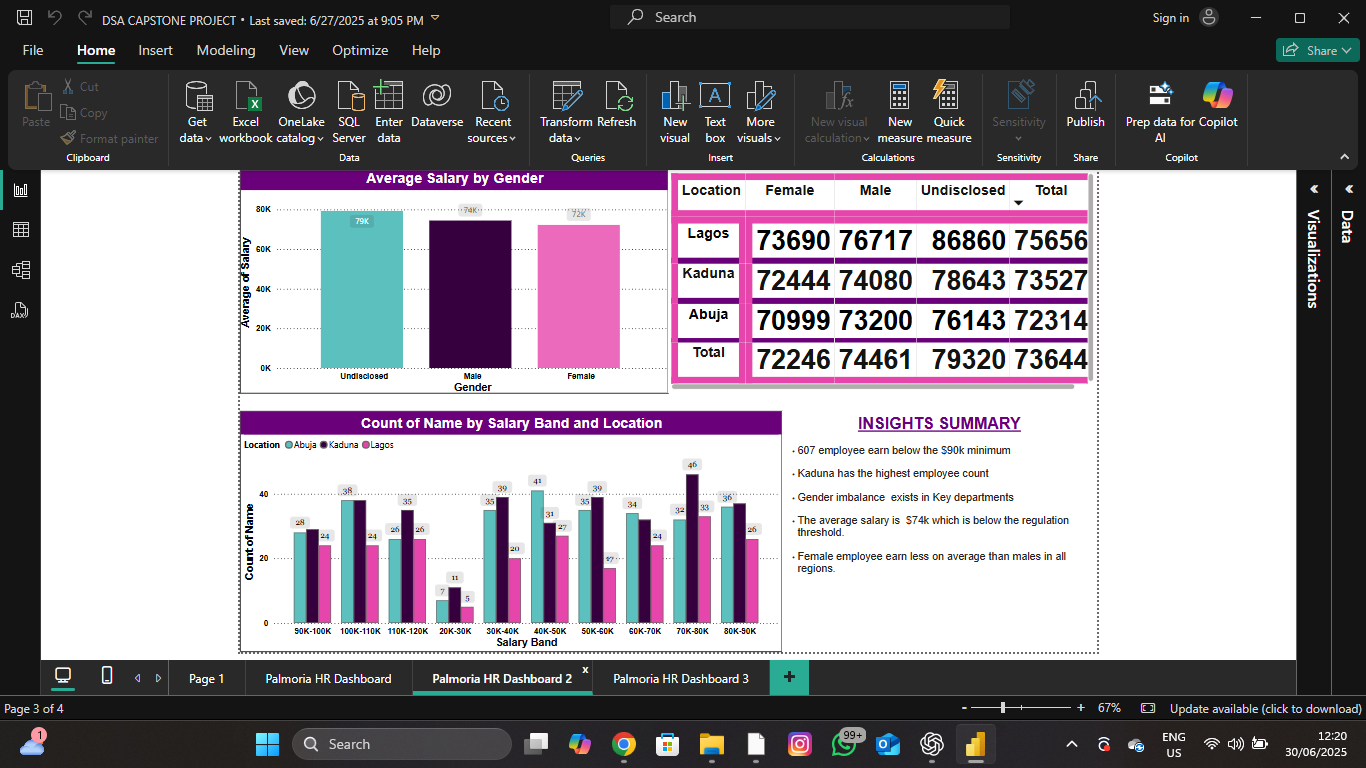

This screenshot's page, from the dashboard's own definition file:
{"tool":"powerbi","page":{"name":"Palmoria HR Dashboard 2","canvas":[1280,720],"ordinal":2},"visuals":[{"type":"clusteredColumnChart","title":"Average Salary by Gender","fields":{"Category":["Palmoria Group emp-data.Gender"],"Y":["Palmoria Group emp-data.Salary"]},"box":[0,0,640,333.8],"z":0},{"type":"pivotTable","fields":{"Rows":["Palmoria Group emp-data.Location"],"Columns":["Palmoria Group emp-data.Gender"],"Values":["Palmoria Group emp-data.Salary"]},"box":[639.3,0,640.8,333.1],"z":1000},{"type":"clusteredColumnChart","fields":{"Category":["Palmoria Group emp-data.Salary Band"],"Y":["Palmoria Group emp-data.Name"],"Series":["Palmoria Group emp-data.Location"]},"box":[0,360,809.6,360],"z":2000},{"type":"textbox","box":[810,360,470,360],"z":3000}]}

Visuals, with their boxes on the page's 1280x720 design canvas (x1, y1, x2, y2). These are canvas units, not pixel positions in the 1366x768 screenshot, which may show the page scaled, cropped or inside an application window:
"Average Salary by Gender" clusteredColumnChart: bbox=(0, 0, 640, 334)
pivotTable - Palmoria Group emp-data.Location x Palmoria Group emp-data.Gender: bbox=(639, 0, 1280, 333)
clusteredColumnChart - Palmoria Group emp-data.Salary Band x Palmoria Group emp-data.Name: bbox=(0, 360, 810, 720)
textbox: bbox=(810, 360, 1280, 720)
